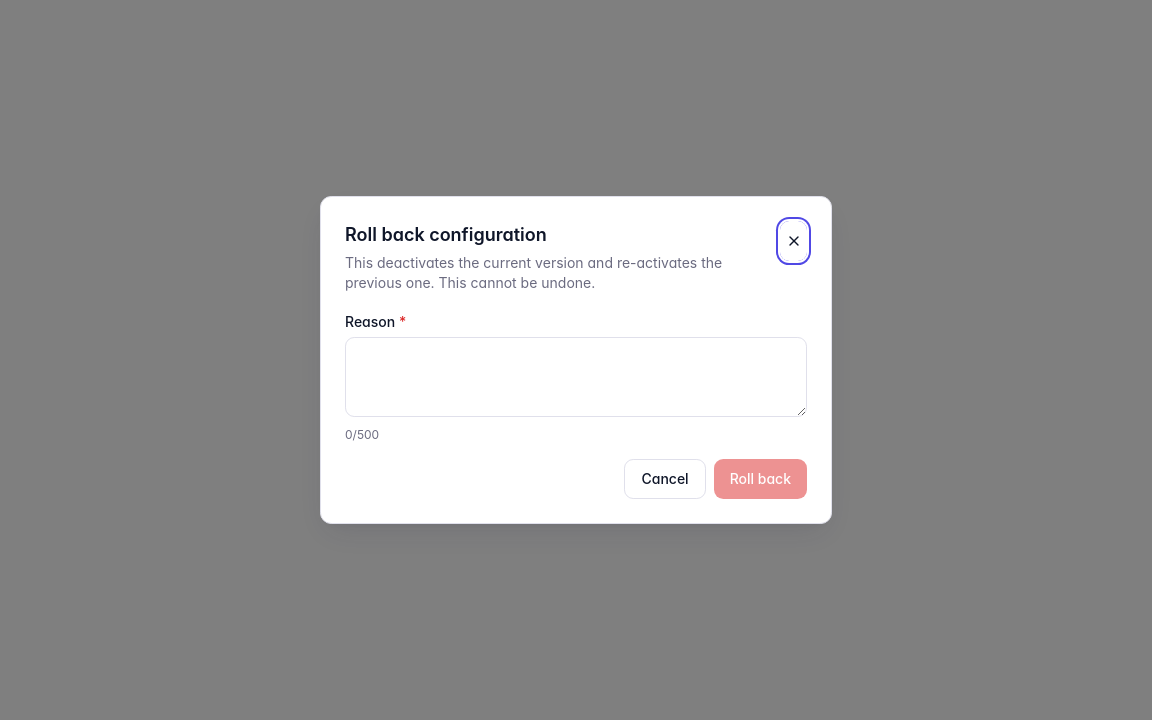
Test case: RollbackConfirmDialog › rolls back with the trimmed reason and reports the restored version
The width and height of the screenshot is (1152, 720).
In the text box labelled "Reason *": (576, 377) [345,337,807,417], type "  wrong threshold  "
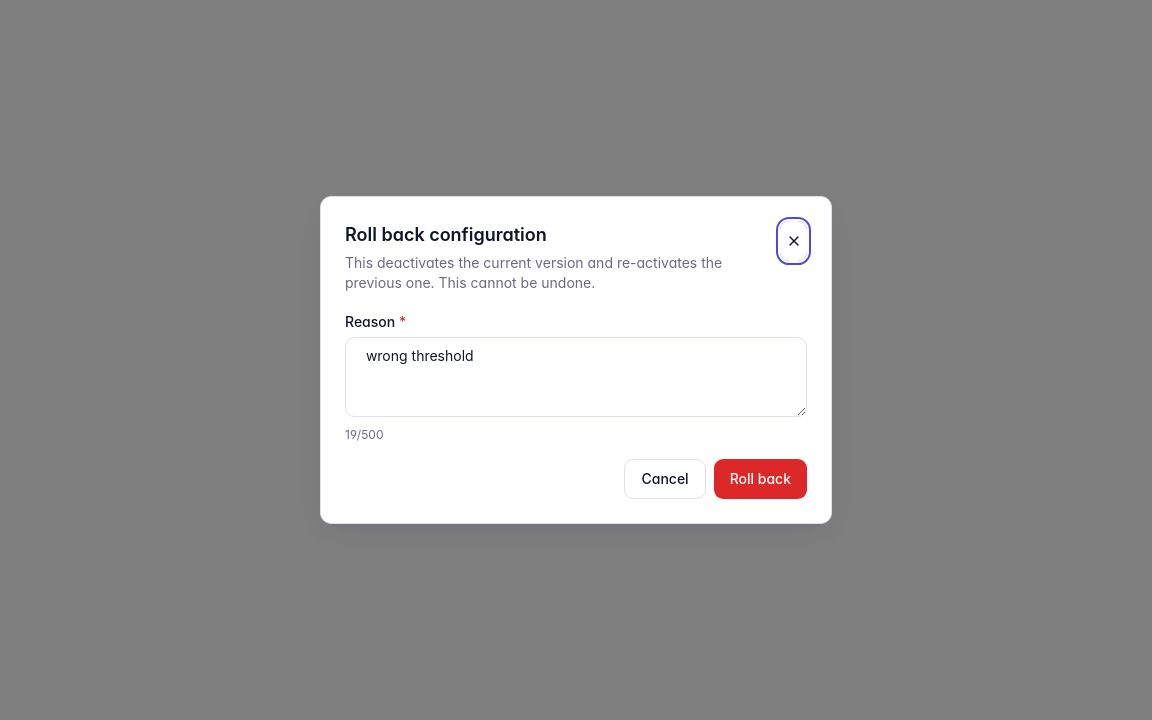
Click the button "Roll back": (760, 479) [714,459,807,499]
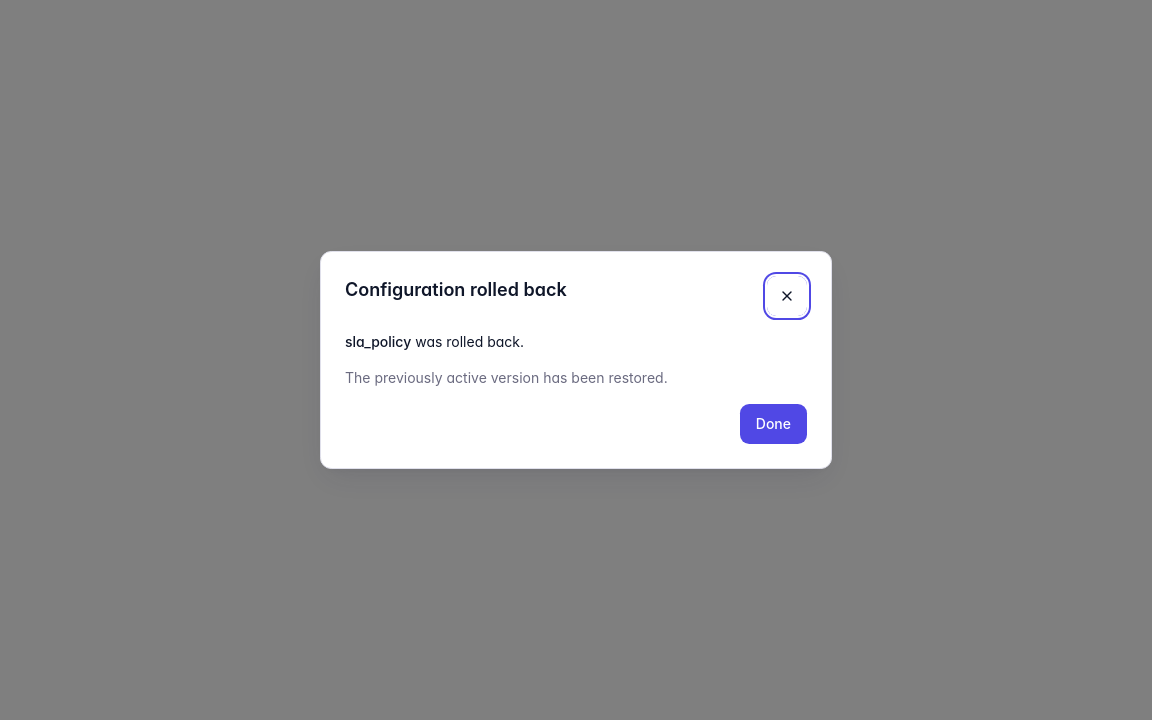
Expected: the text "The previously active version has been restored." is shown, [345,369,668,386]
